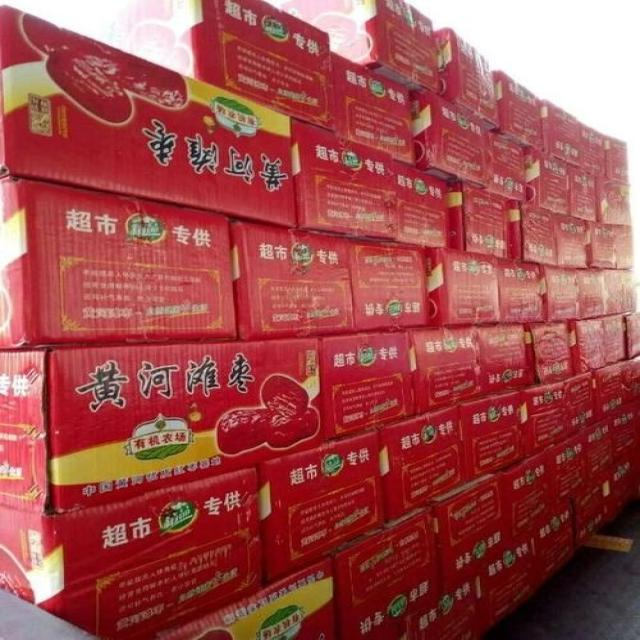box: (0, 5, 296, 228), (0, 336, 328, 517), (1, 462, 264, 640), (0, 178, 237, 349), (91, 0, 334, 135), (256, 428, 384, 590), (420, 470, 529, 640), (329, 504, 447, 640), (228, 216, 355, 339), (155, 556, 335, 639), (278, 0, 440, 90), (289, 116, 399, 243), (493, 440, 577, 600), (314, 328, 416, 442), (380, 406, 468, 526), (330, 50, 417, 167), (557, 416, 623, 551), (412, 87, 492, 190), (346, 235, 426, 332), (407, 325, 481, 417), (433, 29, 499, 131), (422, 246, 499, 326), (389, 156, 451, 247), (462, 390, 522, 480), (445, 180, 509, 258), (492, 70, 547, 152), (476, 324, 532, 400), (516, 382, 566, 460), (605, 397, 640, 506), (509, 196, 559, 267), (497, 256, 544, 324), (525, 146, 570, 215), (540, 98, 582, 166), (529, 322, 572, 386), (488, 132, 526, 201), (589, 359, 630, 421), (536, 263, 579, 322), (586, 220, 634, 270), (570, 315, 608, 378), (562, 372, 598, 436), (553, 211, 591, 268), (567, 160, 599, 222), (598, 175, 632, 227), (602, 268, 639, 314), (580, 121, 607, 180), (577, 267, 605, 320), (604, 311, 628, 366), (605, 135, 628, 185), (626, 309, 639, 361), (628, 353, 640, 403)
